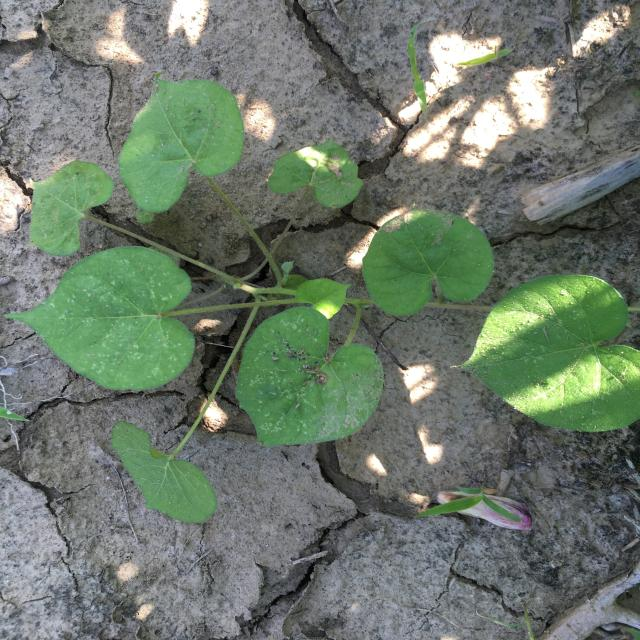MorningGlory: (5, 72, 640, 523)
